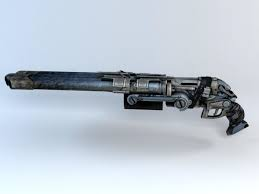weapon: (4, 68, 249, 136)
